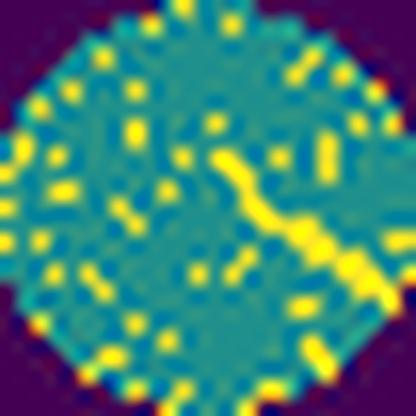Scratch: (208, 147, 402, 316)
